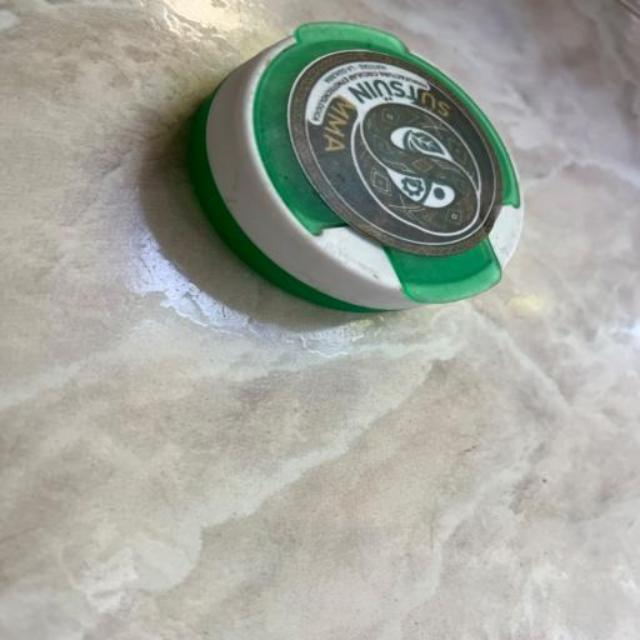HDPE: (156, 20, 571, 329)
